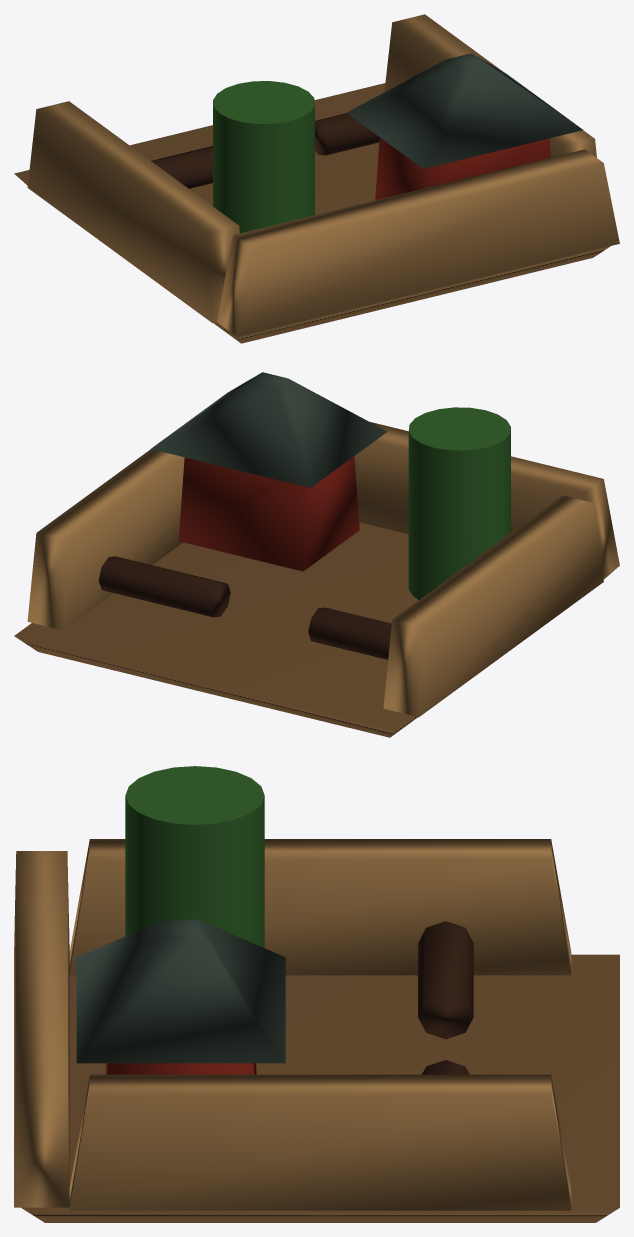
Rendered from R52_HAN_LUOYANG_PUBLIC_COURTYARD_A.fbx.
3 views of the same model, one above another, from view 1: azimuth 30°, elevation 25°; view 2: azimuth 150°, elevation 25°; view 3: azimuth 270°, elevation 25° (orthographic). The views are drawn at different scales.
Visible parts, largest first — view 1: wall_n, wall_e, pavilion_roof, tree, ground, wall_w, pavilion, bench_w, bench_e; view 2: ground, wall_e, tree, wall_w, pavilion_roof, pavilion, wall_n, bench_w, bench_e; view 3: wall_w, ground, wall_e, pavilion_roof, tree, wall_n, bench_e, pavilion.
Part boxes in pixels (x1,y1,x2,y2): wall_n: [217, 149, 619, 336]; wall_e: [27, 101, 239, 322]; pavilion_roof: [346, 53, 582, 168]; tree: [213, 81, 314, 233]; ground: [14, 83, 610, 343]; wall_w: [384, 14, 596, 157]; pavilion: [375, 137, 550, 200]; bench_w: [315, 113, 379, 155]; bench_e: [151, 146, 212, 188]; ground: [14, 522, 616, 737]; wall_e: [383, 495, 603, 717]; tree: [408, 407, 510, 599]; wall_w: [27, 449, 184, 630]; pavilion_roof: [151, 372, 387, 487]; pavilion: [178, 456, 359, 571]; wall_n: [354, 421, 619, 577]; bench_w: [98, 556, 230, 617]; bench_e: [308, 607, 391, 659]; wall_w: [69, 1074, 571, 1210]; ground: [21, 954, 619, 1222]; wall_e: [69, 839, 571, 975]; pavilion_roof: [76, 919, 285, 1063]; tree: [125, 766, 264, 947]; wall_n: [14, 851, 69, 1207]; bench_e: [418, 921, 473, 1039]; pavilion: [105, 1063, 256, 1074].
Size of the model in its own units: 88 by 39 by 87.
